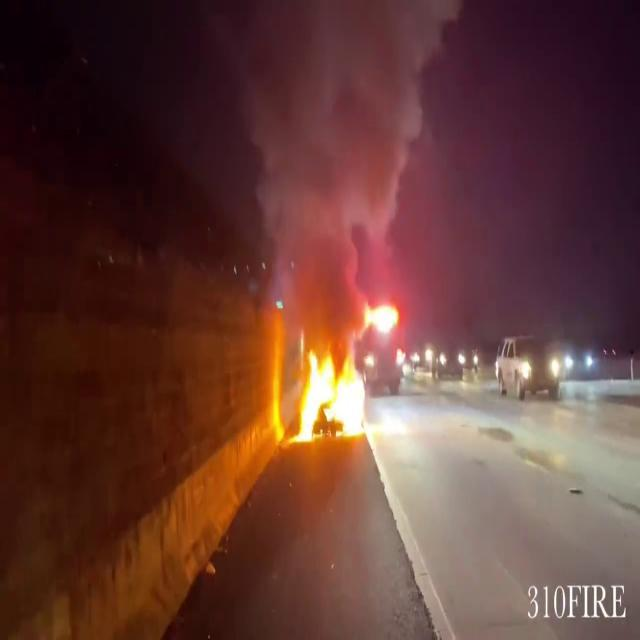Fire: (272, 339, 370, 444)
Smoke: (232, 0, 446, 308)
